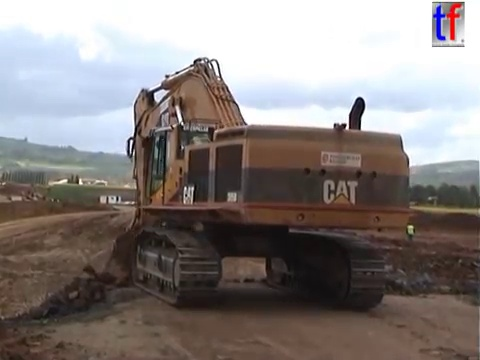excavator: (85, 54, 414, 314), (17, 182, 47, 204)
worker: (405, 220, 417, 243)
